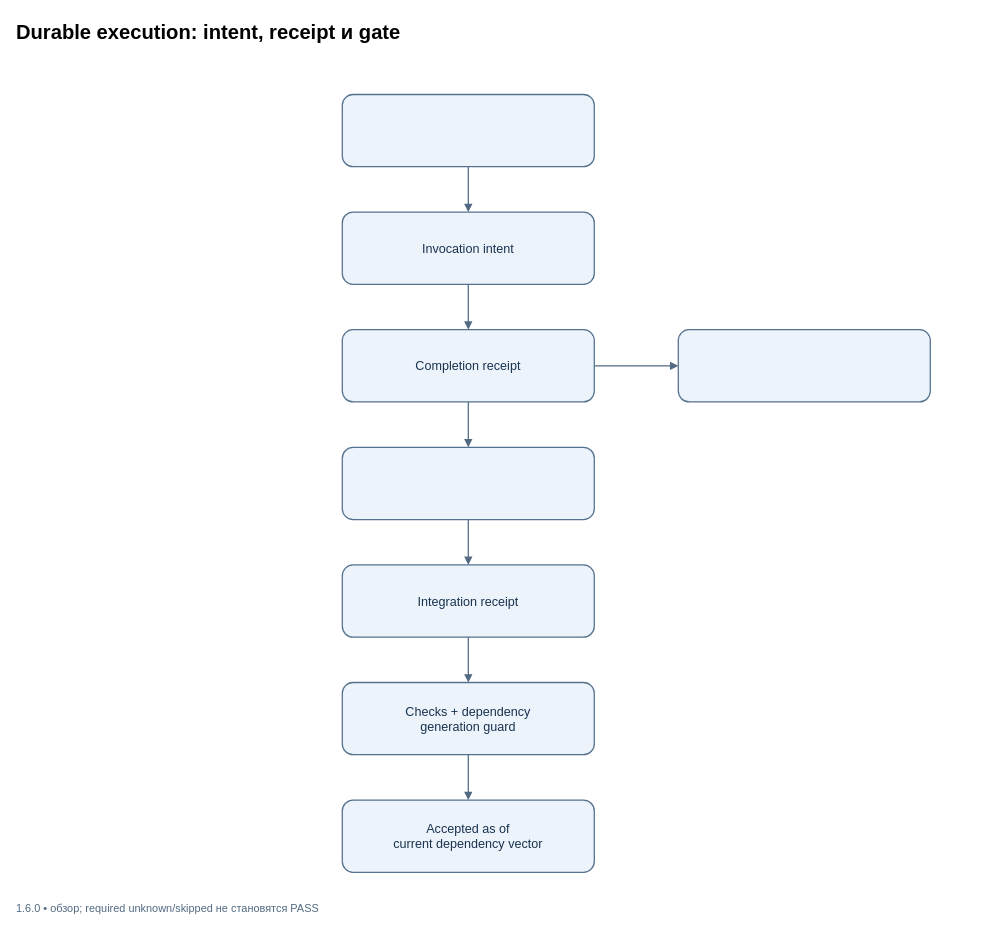
Image size: 986x936. Some labels were removed from this diagram. Each missing label, with the box of its shape:
Integration intent: (341, 446, 595, 520)
Persisted plan: (341, 93, 595, 167)
Usage projection: уникальные подтверждённые вызовы: (677, 329, 931, 402)
